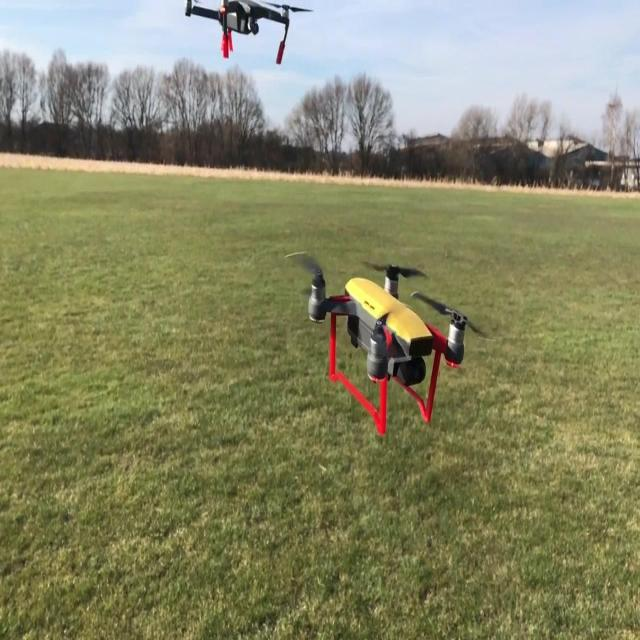drone: (290, 245, 494, 438)
